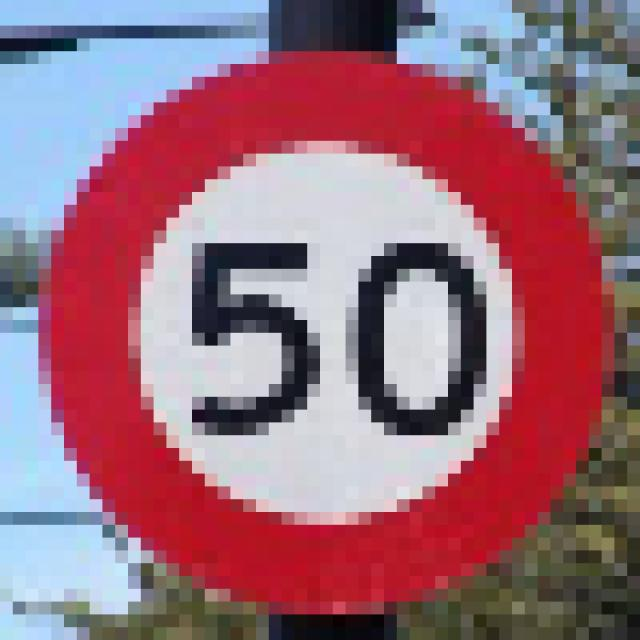Limite-50: (39, 51, 613, 613)
